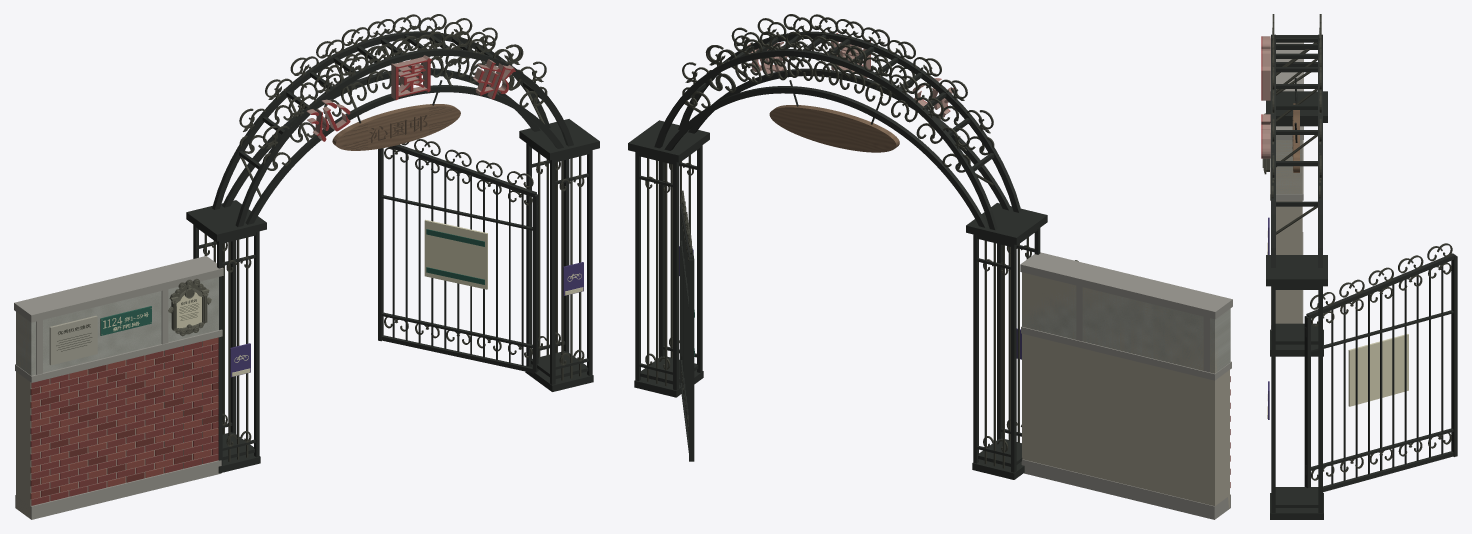
File: jingan-qinyuan-lane-entrance-raw.glb
The picture shows the model from 3 angles, left to right: view 1: azimuth 30°, elevation 25°; view 2: azimuth 150°, elevation 25°; view 3: azimuth 270°, elevation 25°; orthographic projection.
Visible parts, largest first — view 1: 沁园邨新闸路总弄铁艺拱门与西侧铭牌墙; view 2: 沁园邨新闸路总弄铁艺拱门与西侧铭牌墙; view 3: 沁园邨新闸路总弄铁艺拱门与西侧铭牌墙.
Part boxes in pixels (box(x1,y1,x2,y2)): 沁园邨新闸路总弄铁艺拱门与西侧铭牌墙: box(14, 14, 599, 519); 沁园邨新闸路总弄铁艺拱门与西侧铭牌墙: box(628, 14, 1232, 519); 沁园邨新闸路总弄铁艺拱门与西侧铭牌墙: box(1261, 14, 1457, 519).
Size of the model in its own units: 6.71 by 4.41 by 2.
19 materials, 2 textured.
